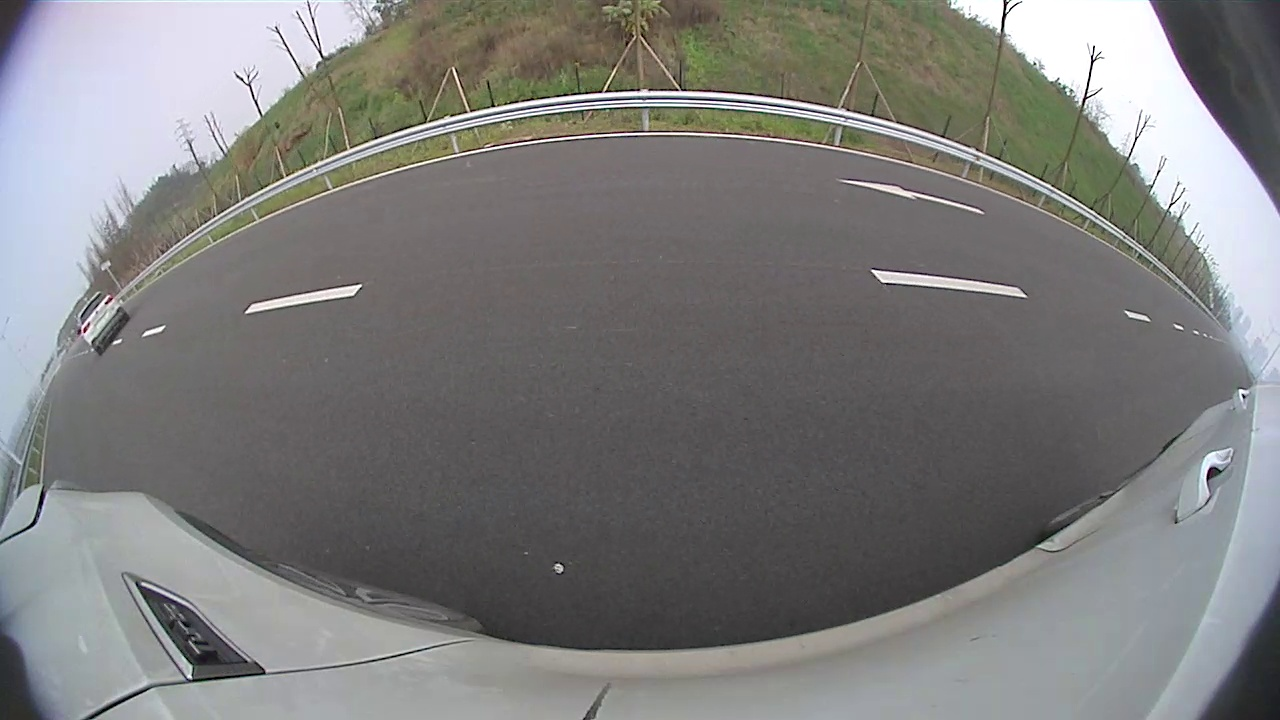car: (76, 291, 130, 356)
